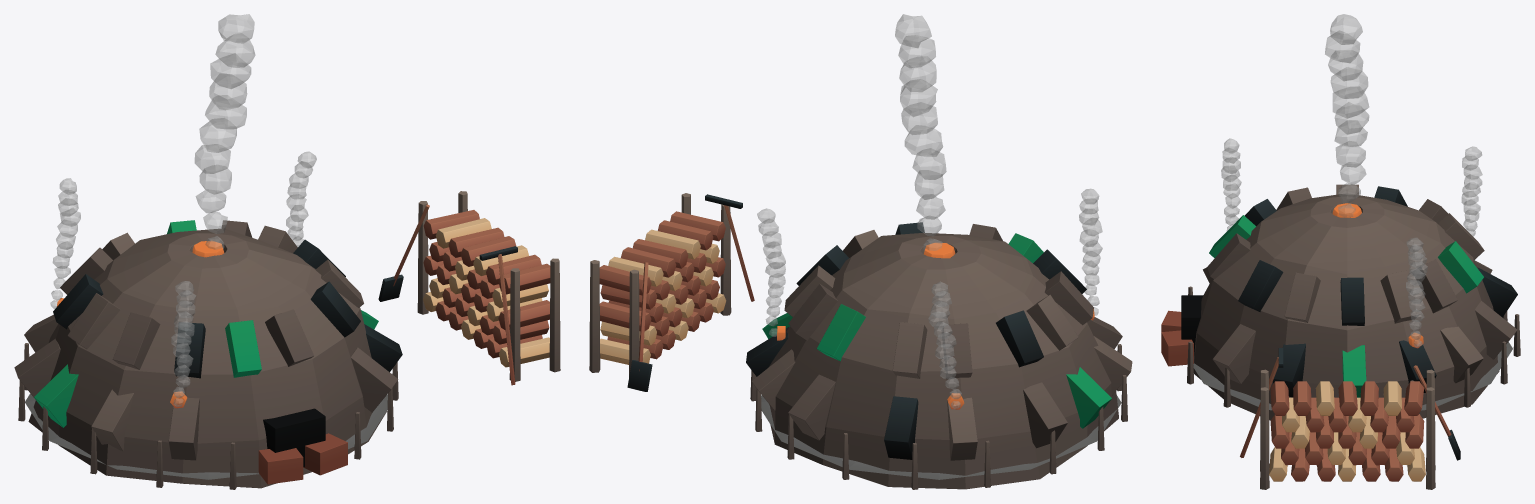
File: charcoal_kiln.glb
3 renders of one model, left to right at view 1: azimuth 30°, elevation 25°; view 2: azimuth 150°, elevation 25°; view 3: azimuth 270°, elevation 25°, orthographic. The views are drawn at different scales.
Visible parts, largest first — view 1: charcoal_kiln; view 2: charcoal_kiln; view 3: charcoal_kiln.
Boxes of the visible parts, x1=… form: charcoal_kiln: x1=14, y1=14, x2=560, y2=489; charcoal_kiln: x1=589, y1=14, x2=1132, y2=489; charcoal_kiln: x1=1161, y1=14, x2=1520, y2=489.
Bounding box in the file's own units: 6.54 × 5.21 × 4.77.
6 materials, 6 textured.
